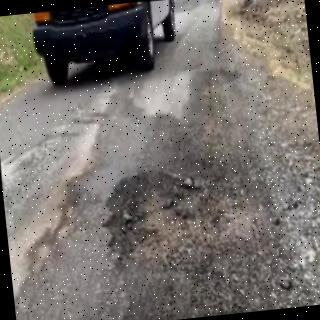pothole: (103, 171, 219, 260)
